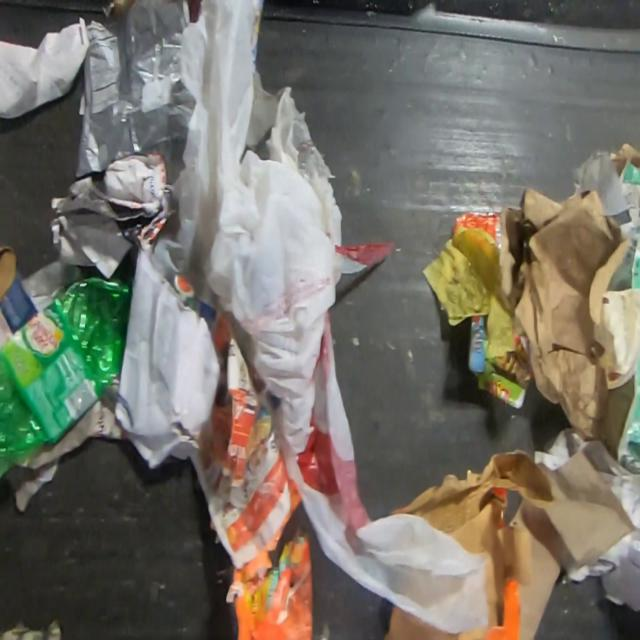cardboard: (386, 448, 637, 639), (502, 186, 635, 461), (465, 302, 532, 408), (606, 142, 640, 179)
metal: (450, 212, 503, 249)
rigid_plastic: (0, 280, 131, 457), (0, 257, 83, 349)
soft_plastic: (171, 0, 489, 636), (73, 0, 193, 179)
